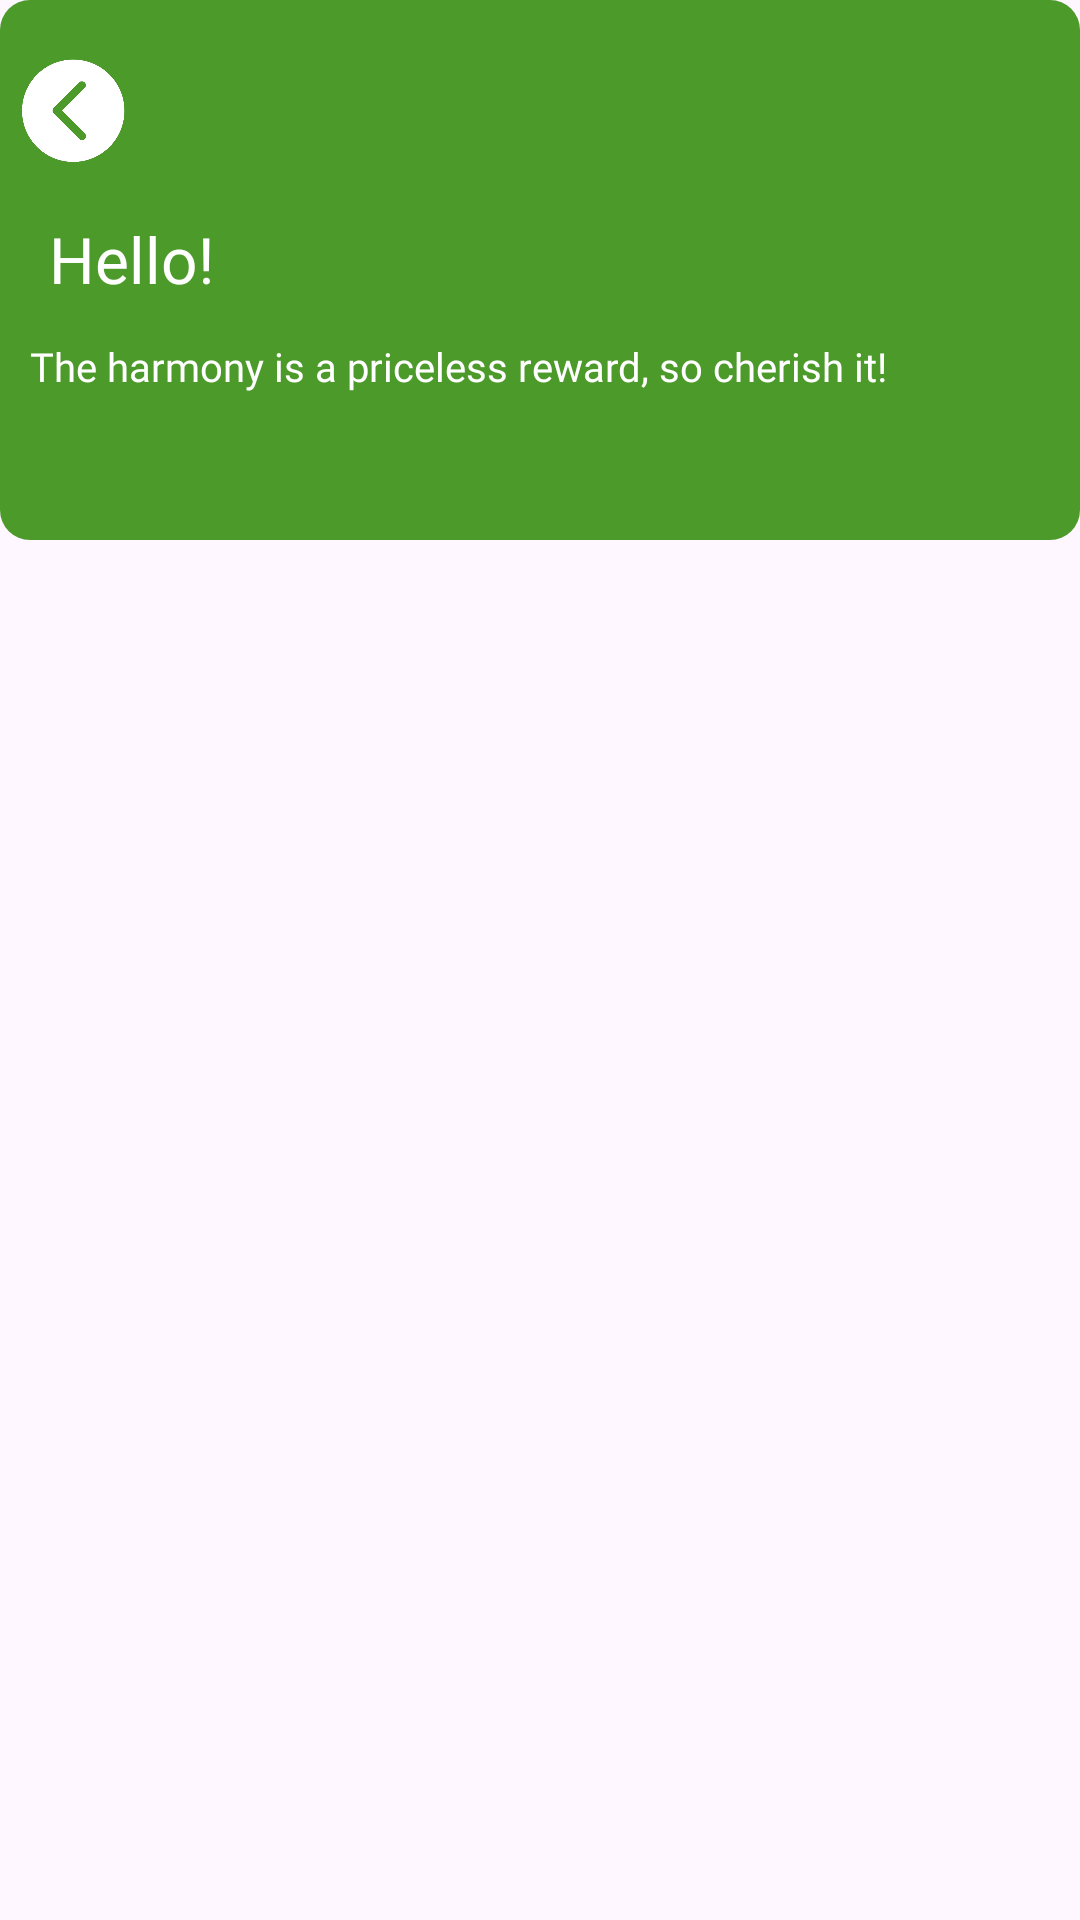

Screen size 1080x1920. Icon name, then its box in pixels as (x1, y1, x2, y2):
Back Button: (22, 59, 125, 162)
